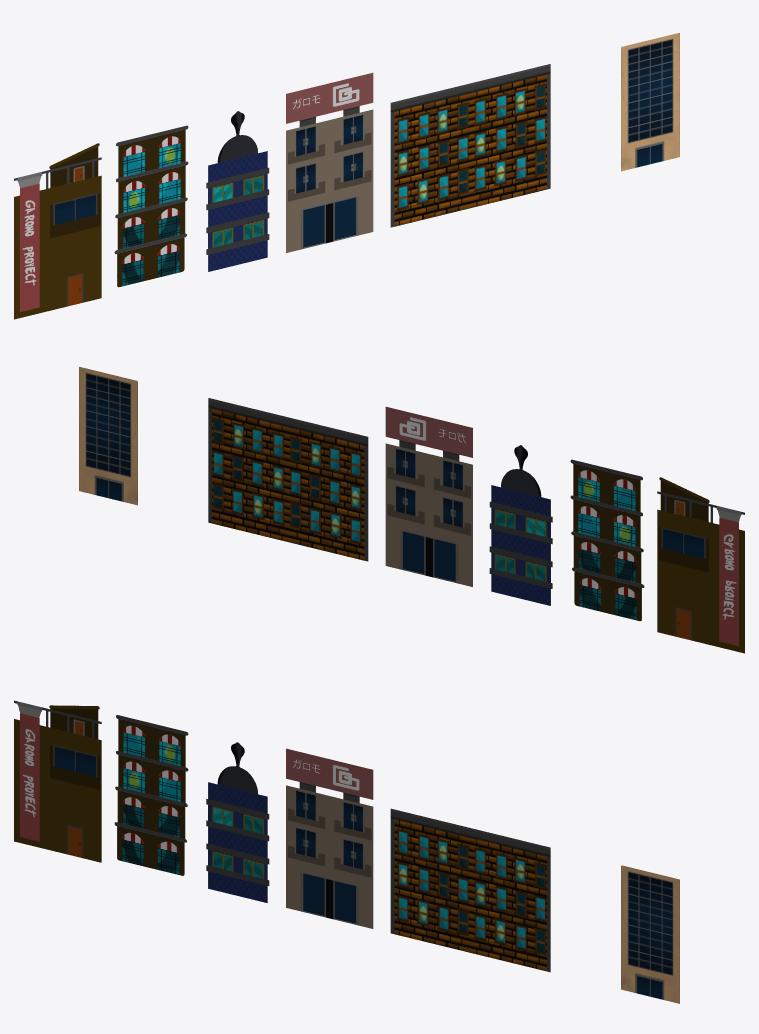
Rendered from edificios.fbx.
The picture shows the model from 3 angles, top to bottom: view 1: azimuth 30°, elevation 25°; view 2: azimuth 150°, elevation 25°; view 3: azimuth 330°, elevation 25°; orthographic projection.
Parts seen in each view (by area): view 1: pPlane5, pPlane4, pPlane1, pPlane2, pPlane3, pPlane6; view 2: pPlane5, pPlane4, pPlane1, pPlane2, pPlane3, pPlane6; view 3: pPlane5, pPlane4, pPlane1, pPlane2, pPlane3, pPlane6.
Part boxes in pixels (bbox=[...]): pPlane5: bbox=[390, 64, 550, 227]; pPlane4: bbox=[286, 72, 373, 252]; pPlane1: bbox=[14, 143, 101, 319]; pPlane2: bbox=[114, 125, 188, 287]; pPlane3: bbox=[206, 111, 269, 271]; pPlane6: bbox=[621, 33, 679, 171]; pPlane5: bbox=[208, 398, 368, 561]; pPlane4: bbox=[385, 406, 472, 586]; pPlane1: bbox=[657, 477, 744, 653]; pPlane2: bbox=[570, 459, 644, 621]; pPlane3: bbox=[489, 445, 552, 605]; pPlane6: bbox=[79, 367, 137, 505]; pPlane5: bbox=[390, 808, 550, 972]; pPlane4: bbox=[286, 748, 373, 928]; pPlane1: bbox=[14, 700, 101, 862]; pPlane2: bbox=[114, 715, 188, 875]; pPlane3: bbox=[206, 742, 269, 902]; pPlane6: bbox=[621, 865, 679, 1003].
Size of the model in its own units: 47.76 by 9.95 by 0.
